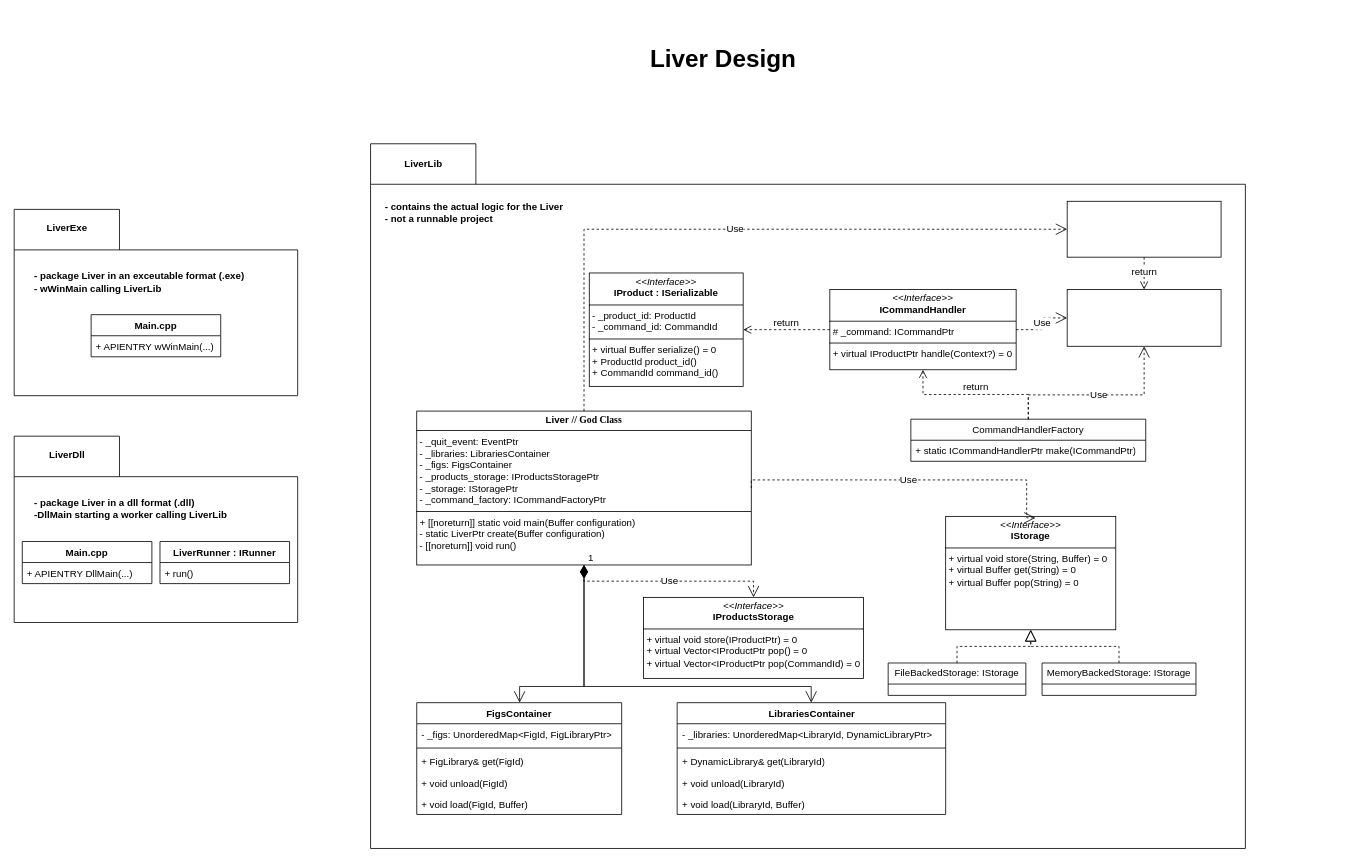
Some shapes in this 1349 by 863 pixel diagram are drawn without their labels. Here are the shapes that lost their labels. From the top down, the centre of each, then its label:
[1143,228]: <<Interface>> ICommandFactory + ICommandPtr make(Buffer)
[1143,317]: <<Interface>> ICommand + virtual CommandType type() = 0
